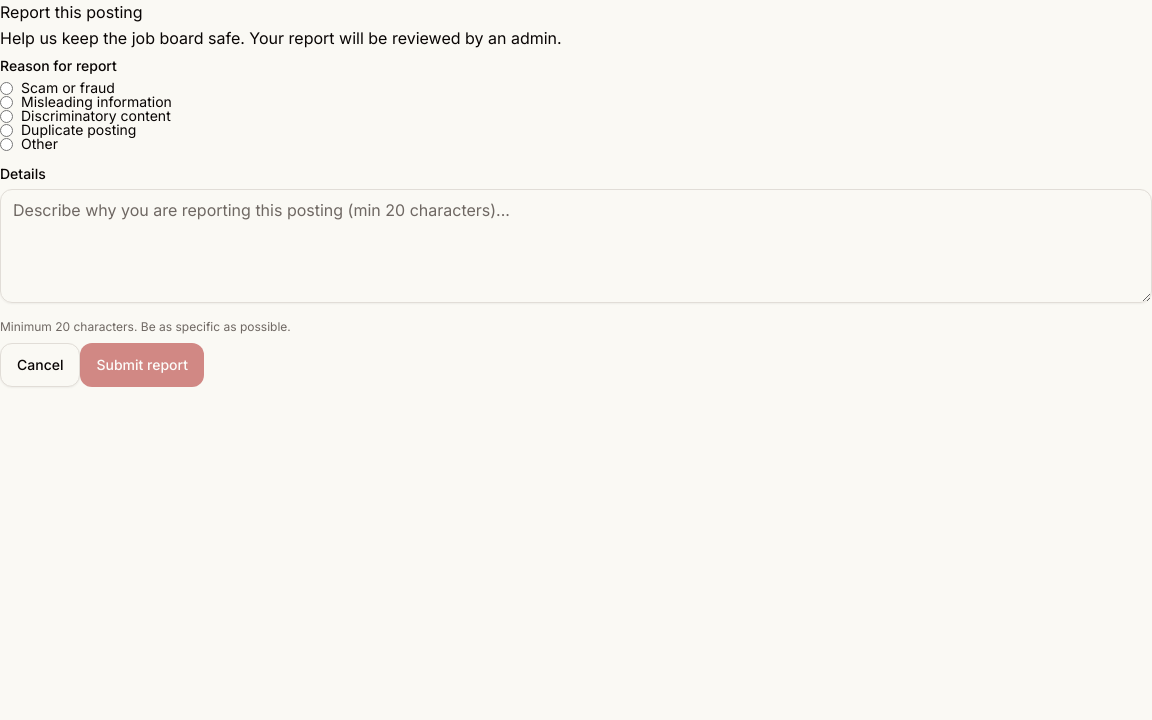
Test case: ReportPostingModal › shows confirm step after clicking proceed
Click the radio button with test id "report-category-scam_fraud": point(6, 88) [0,82,13,95]
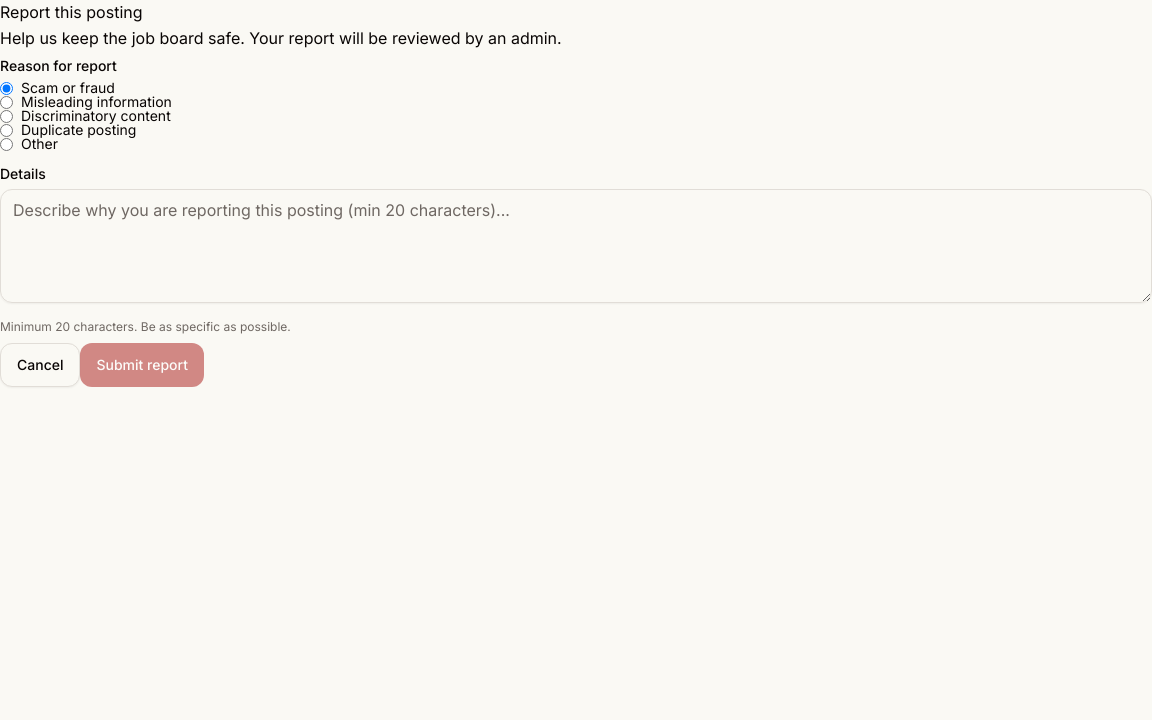
Replace the text in the text box with test id "report-description-textarea" with "This posting appears to be a scam with unrealistic salary claims.": point(576, 246) [0,189,1151,303]
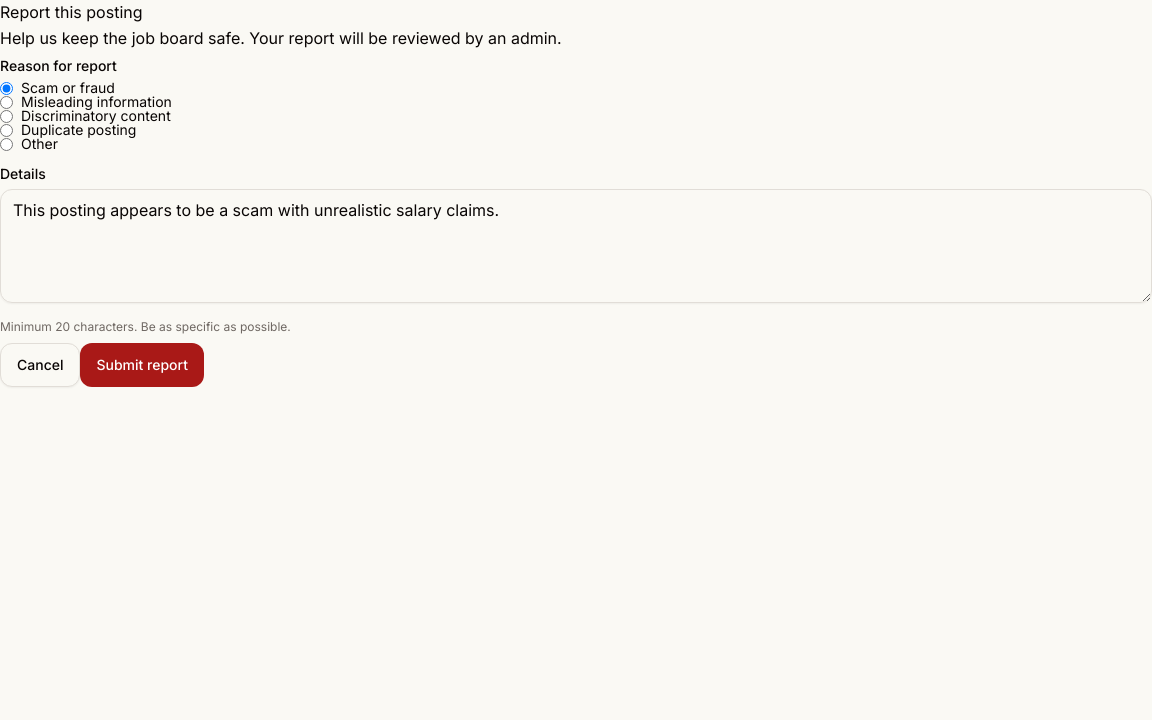
Click the button with test id "report-proceed-button": point(142, 365) [80,343,204,387]
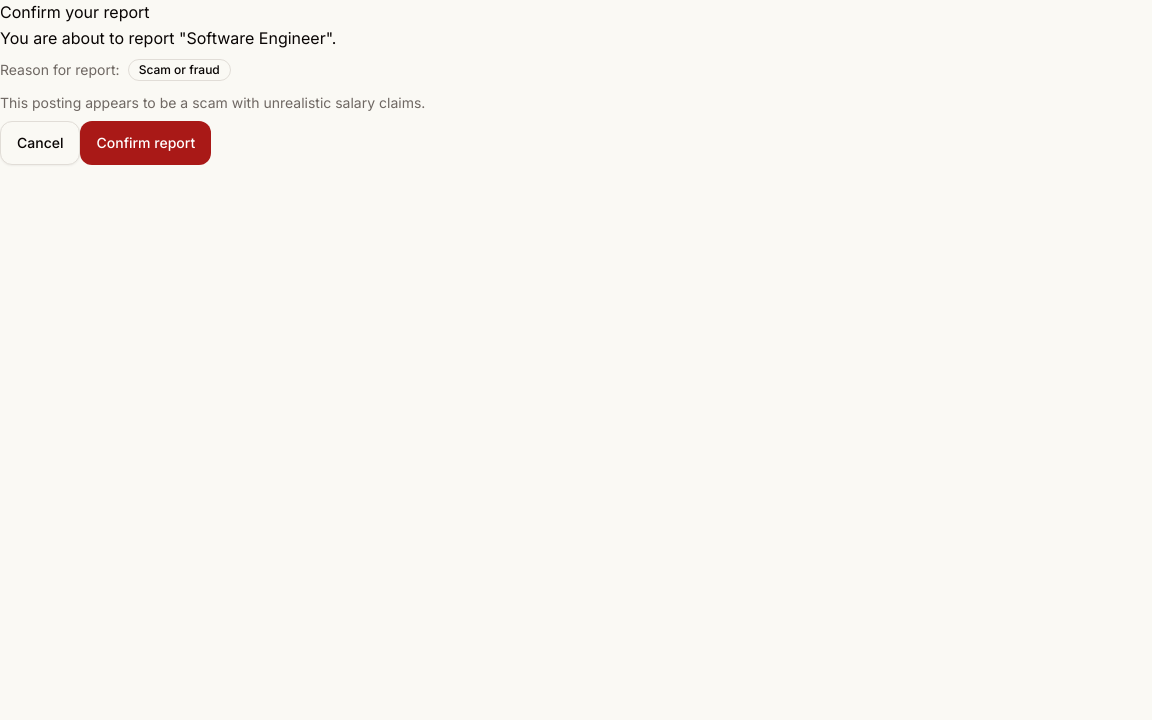
Expected: the text "Scam or fraud" is shown, [128,59,231,81]
Expected: the button with test id "report-confirm-submit" is shown, [80,121,211,165]
